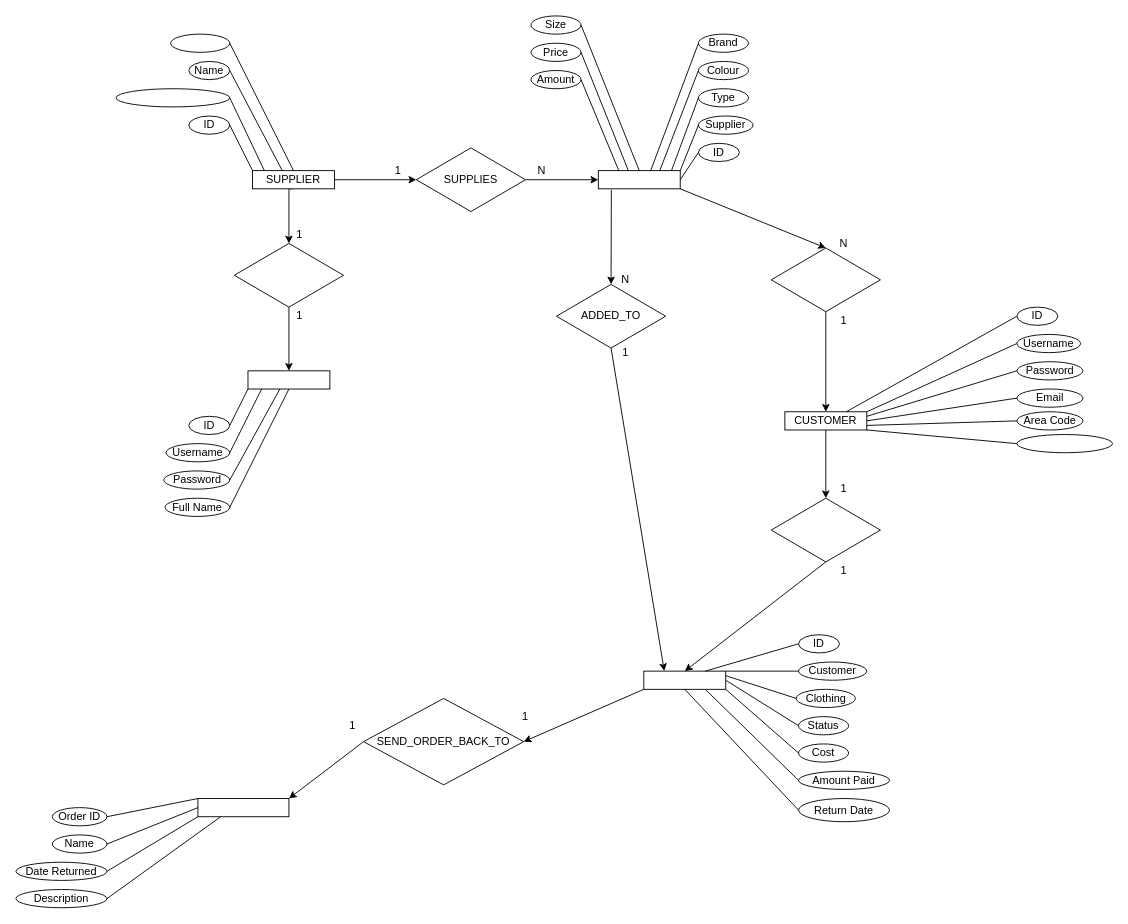
Some shapes in this 1128 by 924 pixel diagram are drawn without their labels. Each missing label, with the box of its shape:
ADDS_ITEMS_TO: (770, 497, 880, 562)
CLOTHES: (597, 170, 680, 189)
Company Contact: (115, 88, 230, 107)
CONTACTED_BY: (233, 243, 344, 307)
EMPLOYEE: (247, 370, 330, 389)
Location: (170, 33, 230, 52)
ORDER: (643, 670, 726, 689)
Phone Number: (1016, 434, 1112, 453)
RETURNS: (197, 798, 289, 817)
VIEWED_BY: (770, 247, 880, 312)
